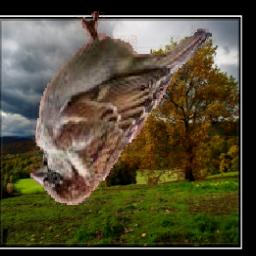Sparrow: (31, 12, 213, 206)
